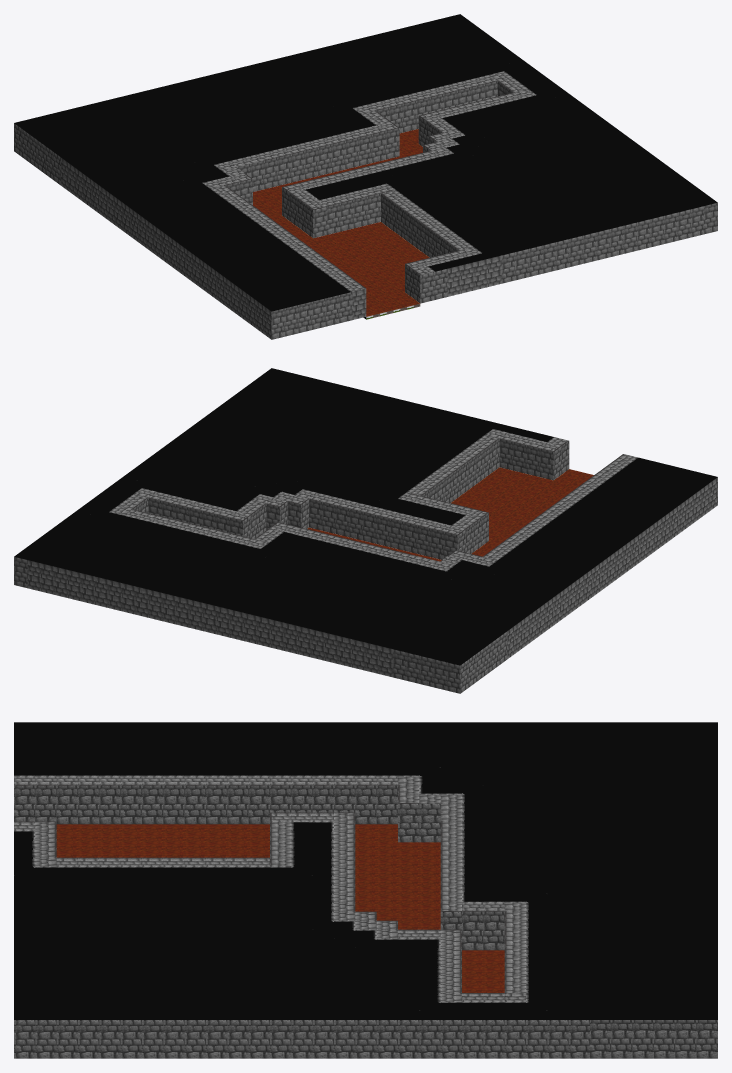
The model's file is PocHunt.fbx.
3 renders of one model, top to bottom at view 1: azimuth 30°, elevation 25°; view 2: azimuth 150°, elevation 25°; view 3: azimuth 270°, elevation 25°, orthographic. The views are drawn at different scales.
Visible parts, largest first — view 1: Cube.147, Cube.314, Cube.445, Cube.252, Cube.451, Cube.233, Cube.315; view 2: Cube.147, Cube.446, Cube.071, Cube.028, Cube.272, Cube.102, Cube.099, Cube.225; view 3: Cube.147, Cube.007, Cube.020, Cube.259, Cube.279, Cube.282, Cube.287, Cube.291, Cube.021, Cube.276, Cube.278, Cube.283 (+13 smaller).
Part boxes in pixels (box(x1,y1,x2,y2)): Cube.147: box(14, 14, 717, 339); Cube.314: box(305, 201, 326, 238); Cube.445: box(412, 266, 433, 303); Cube.252: box(346, 191, 367, 228); Cube.451: box(345, 283, 366, 319); Cube.233: box(270, 148, 291, 185); Cube.315: box(319, 197, 340, 234); Cube.147: box(14, 368, 717, 693); Cube.446: box(540, 443, 561, 480); Cube.071: box(287, 496, 308, 528); Cube.028: box(266, 498, 287, 529); Cube.272: box(444, 526, 465, 557); Cube.102: box(403, 516, 424, 553); Cube.099: box(376, 510, 397, 546); Cube.225: box(430, 523, 451, 559); Cube.147: box(14, 722, 717, 1058); Cube.007: box(462, 950, 504, 992); Cube.020: box(483, 902, 504, 950); Cube.259: box(419, 794, 440, 842); Cube.279: box(355, 776, 376, 824); Cube.282: box(227, 776, 248, 824); Cube.287: box(99, 776, 120, 824); Cube.291: box(163, 776, 184, 824); Cube.021: box(462, 902, 483, 950); Cube.276: box(398, 794, 419, 842); Cube.278: box(376, 776, 397, 824); Cube.283: box(248, 776, 269, 824).
Size of the model in its own units: 3300 by 220 by 3300.
Materials: 1074 (1074 with a texture image).
